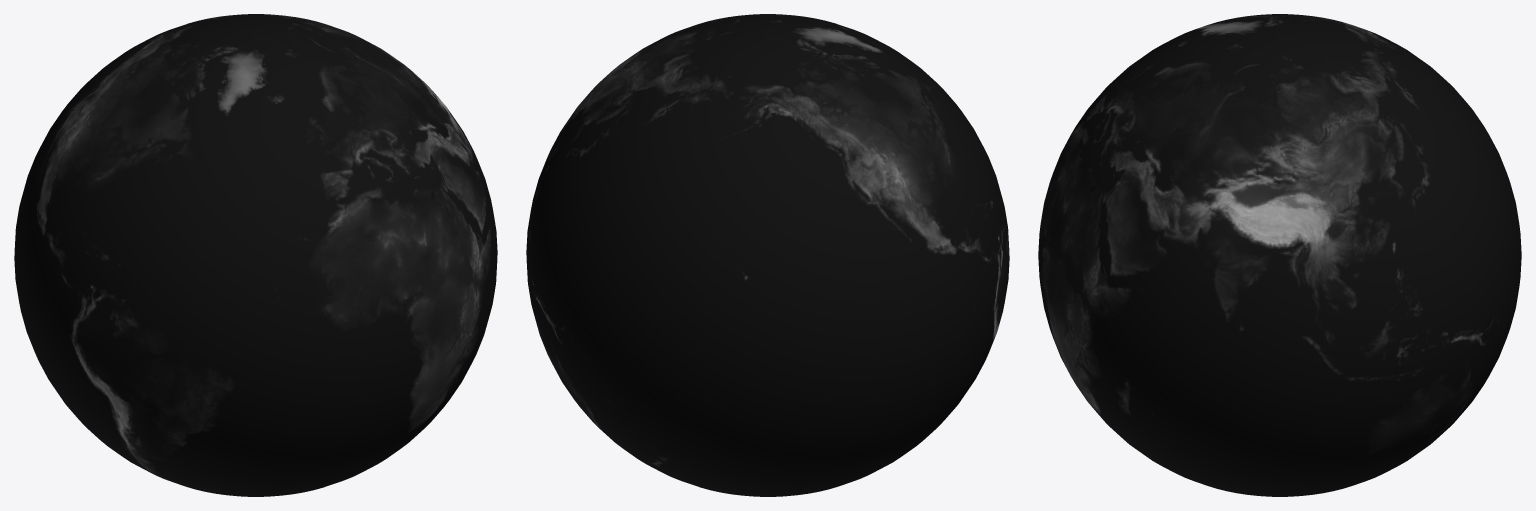
The model's file is earth.obj.
3 views of the same model, side by side, from view 1: azimuth 30°, elevation 25°; view 2: azimuth 150°, elevation 25°; view 3: azimuth 270°, elevation 25° (orthographic).
Parts seen in each view (by area): view 1: Sphere001; view 2: Sphere001; view 3: Sphere001.
Boxes of the visible parts, box(x1,y1,x2,y2) form: Sphere001: box(14, 14, 497, 496); Sphere001: box(526, 14, 1009, 496); Sphere001: box(1038, 14, 1521, 496).
Size of the model in its own units: 682 by 682 by 682.
1 material, 1 textured.
